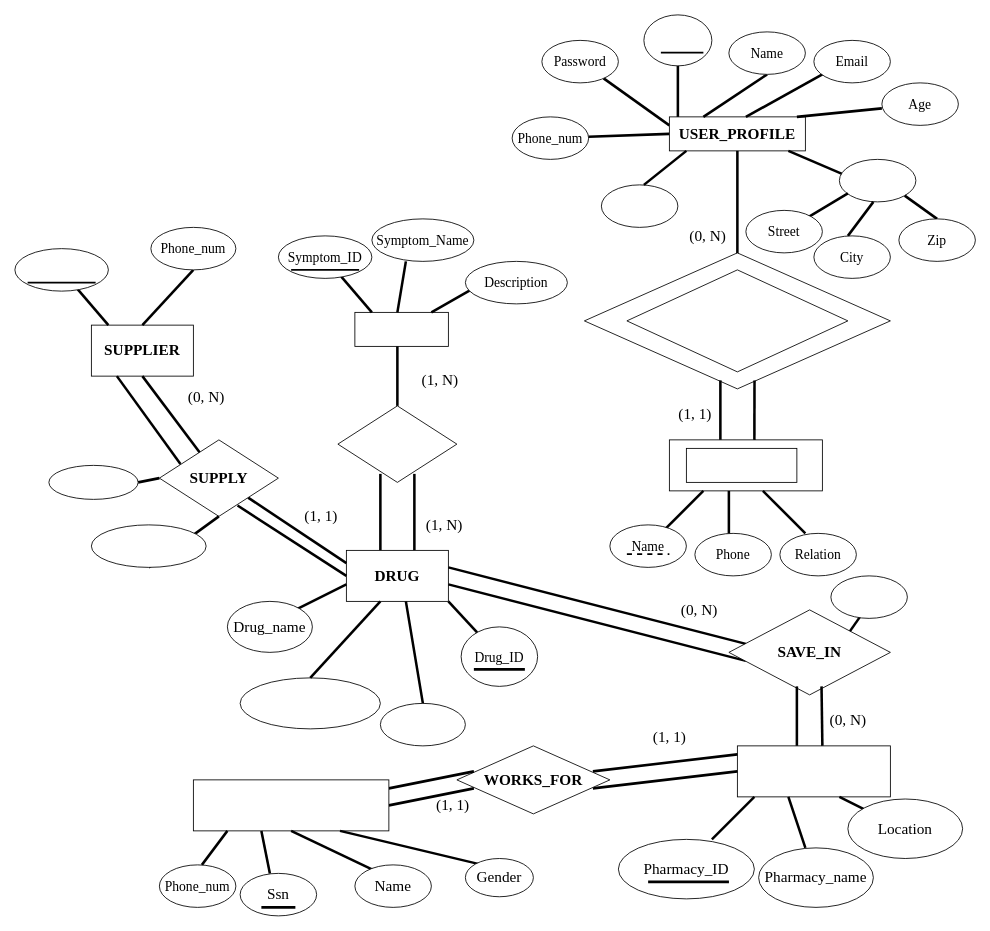
Some shapes in this 990 by 931 pixel diagram are drawn without their labels. The shapes that lost their labels are listed below. From the top down, each one's centre as x and y in pixels, then its label:
At [677,40]: "User_ID".
At [877,180]: "Address".
At [639,205]: "History".
At [61,269]: "Supplier_Name".
At [401,329]: "SYMPTOMS".
At [737,320]: "DEPENDENTS_OF".
At [397,443]: "OF_DRUG".
At [93,482]: "Prize".
At [741,465]: "DEPENDENTS".
At [148,545]: "Amount_available".
At [868,596]: "Remaining".
At [309,703]: "Drug_description".
At [422,724]: "Price".
At [813,771]: "PHARMACY_INFO".
At [291,805]: "PHAMACY_TECHNICIAN".
